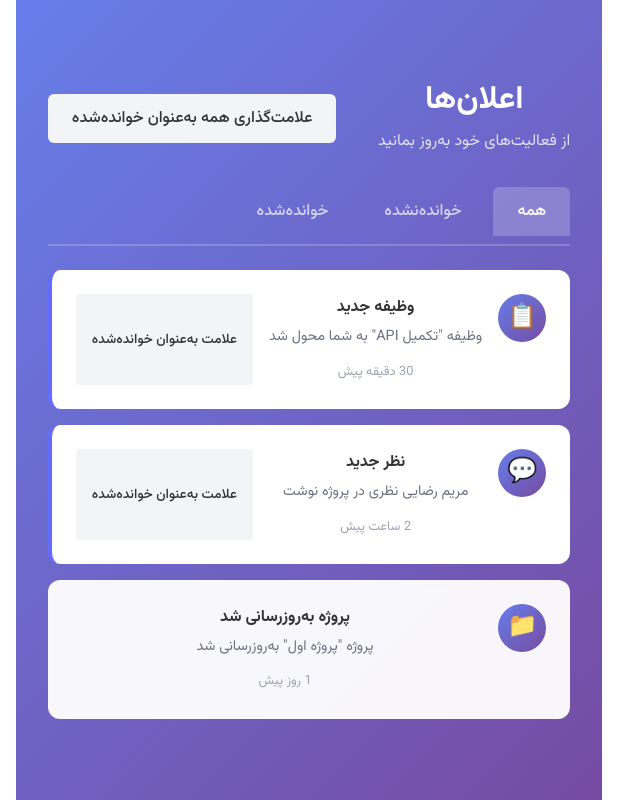
Test: NotificationsList › Filter tabs › filters to unread notifications when tab is clicked
Expected: the heading "وظیفه جدید" is shown, [337,295,414,320]
Click the button "خوانده‌نشده".
click(423, 212)  # box [360,187,486,236]
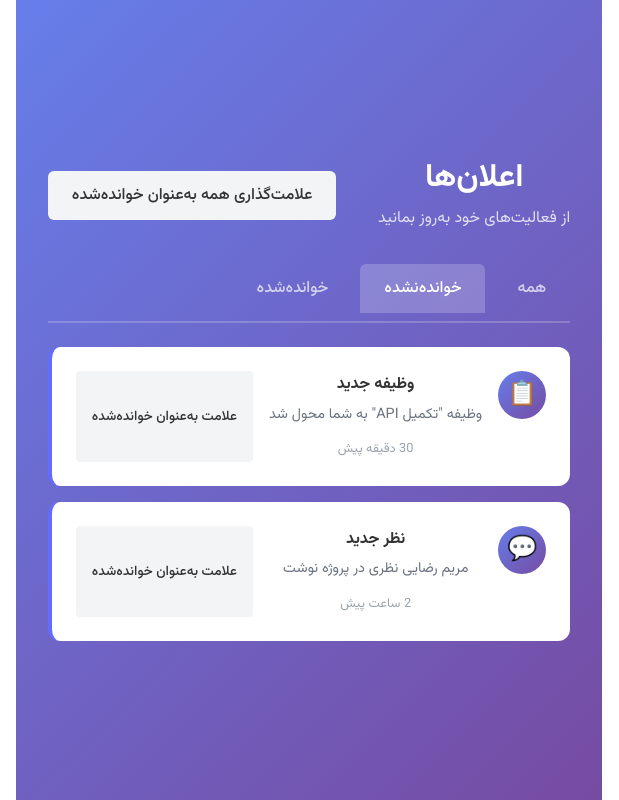
Expected: the heading "وظیفه جدید" is shown, [337,372,414,397]
Expected: the heading "پروژه به‌روزرسانی شد" is gone
